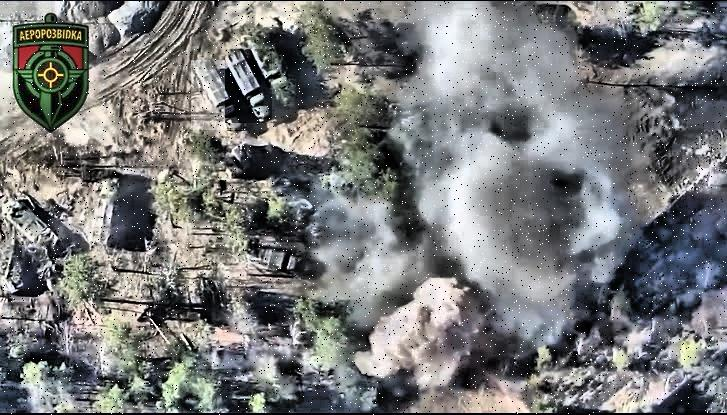military-vehicle: (191, 61, 243, 131), (226, 49, 273, 123)
